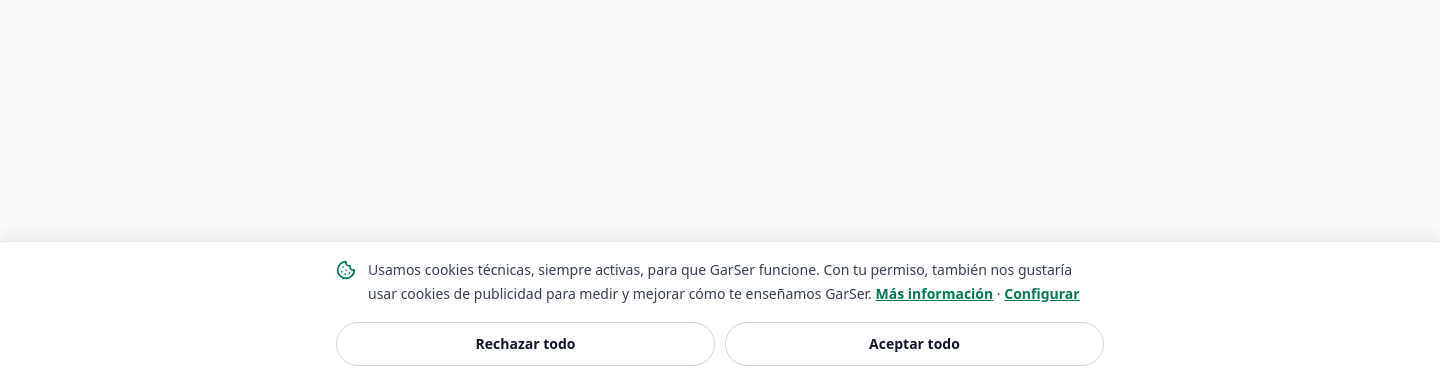
Test: CookieConsentBanner › «Configurar» abre el panel y permite aceptar solo Publicidad
Later steps or results of the test are not shown.
Expected: the element named "Preferencias de cookies" is shown, [0, 241, 1439, 381]
Click the button "Configurar" at (1042, 294), box [1004, 282, 1080, 306]
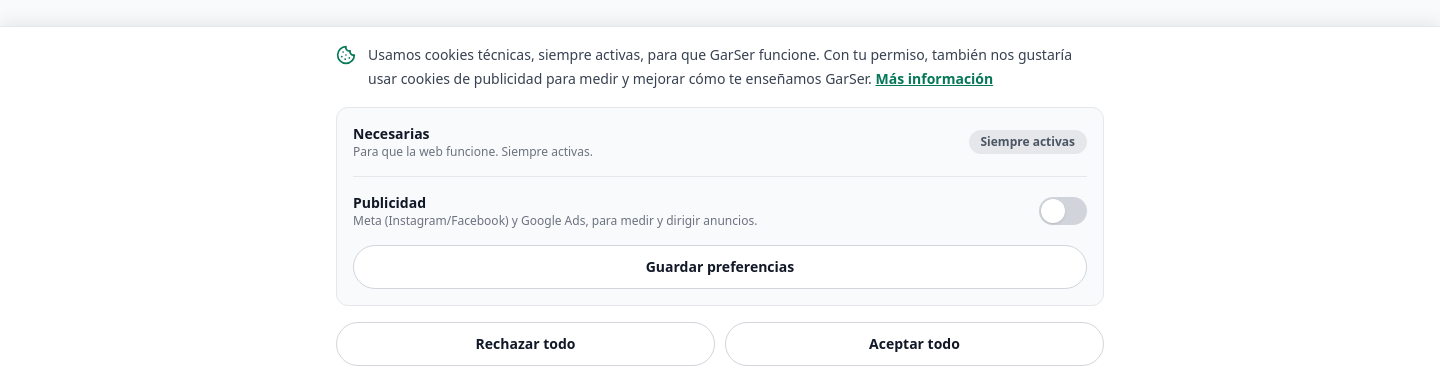
Click the switch named "Cookies de publicidad" at (1063, 211), box [1039, 197, 1087, 225]
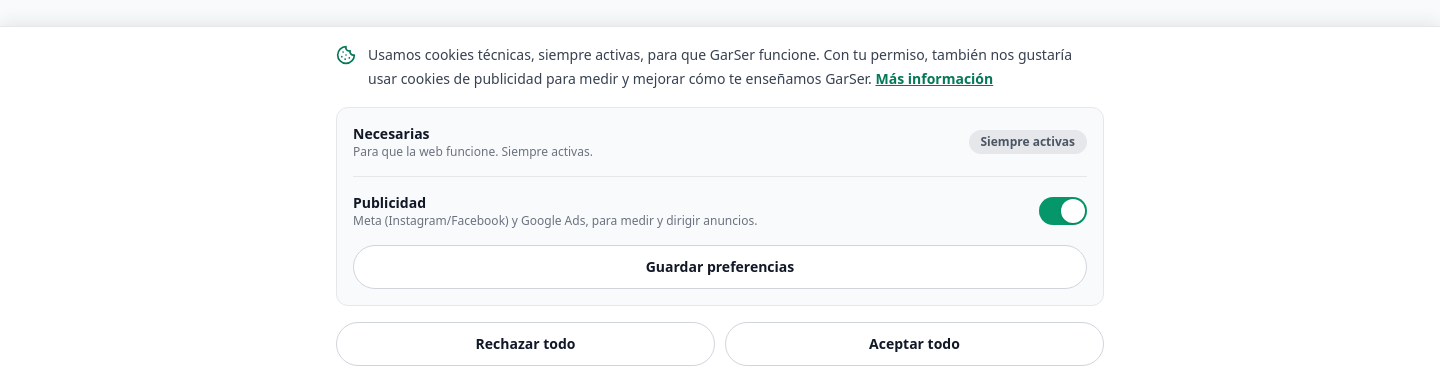
Result: the switch named "Cookies de publicidad" is checked at [1039, 197, 1087, 225]
